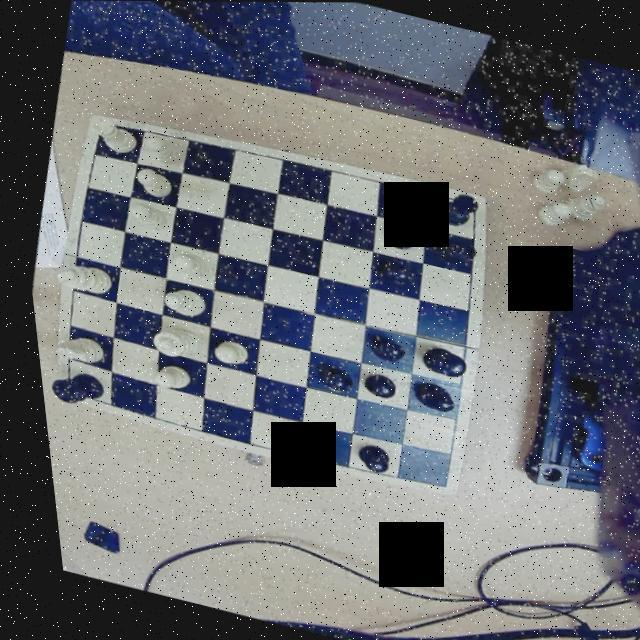chess-table-corners: (414, 468, 446, 494), (454, 193, 482, 220), (84, 114, 117, 134), (44, 376, 72, 398)
